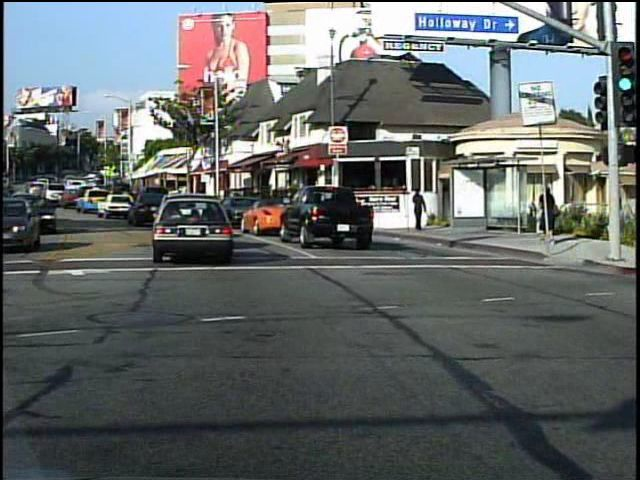person: (537, 180, 563, 249), (411, 186, 428, 235)
